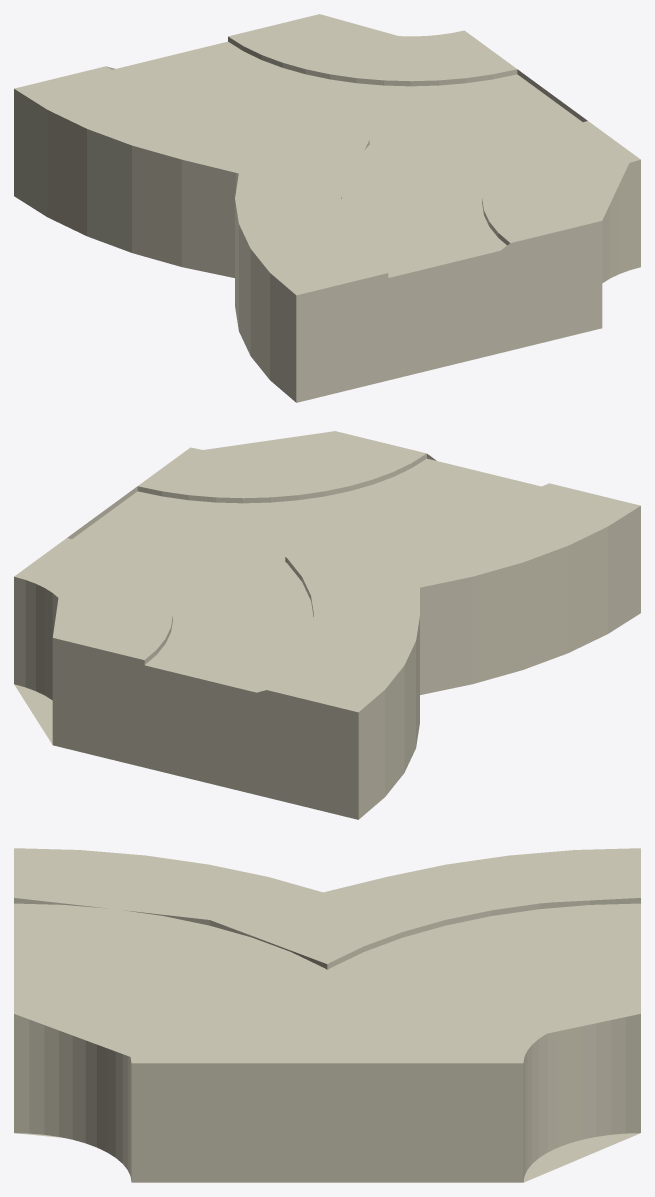
File: roadtile_302.glb
The picture shows the model from 3 angles, top to bottom: view 1: azimuth 30°, elevation 25°; view 2: azimuth 150°, elevation 25°; view 3: azimuth 270°, elevation 25°; orthographic projection. The views are drawn at different scales.
Visible parts, largest first — view 1: Mesh1 Group1 Model; view 2: Mesh1 Group1 Model; view 3: Mesh1 Group1 Model.
Part boxes in pixels (x1,y1,x2,y2): Mesh1 Group1 Model: (14,14,640,402); Mesh1 Group1 Model: (14,431,640,819); Mesh1 Group1 Model: (14,848,640,1182).
Bounding box in the file's own units: 2.44 × 0.63 × 3.
